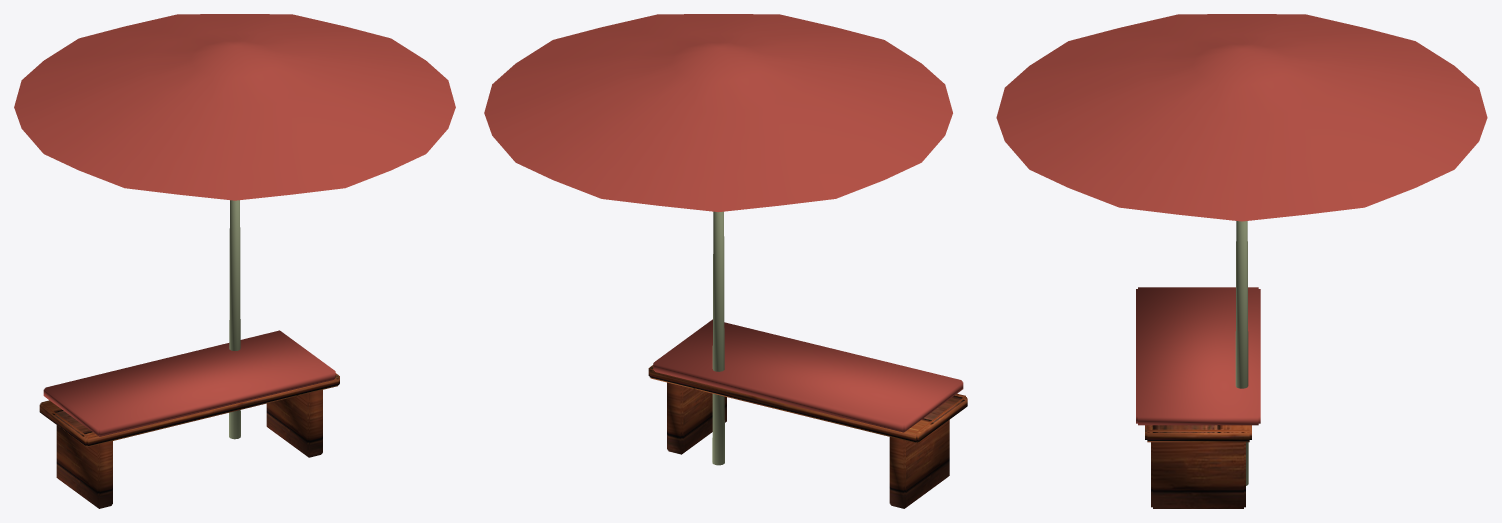
Rendered from edo_wagasa_bench.glb.
3 views of the same model, side by side, from view 1: azimuth 30°, elevation 25°; view 2: azimuth 150°, elevation 25°; view 3: azimuth 270°, elevation 25° (orthographic). The views are drawn at different scales.
Visible parts, largest first — view 1: wagasa_cloth, wagasa_charred, wagasa_cedar, wagasa_pole; view 2: wagasa_cloth, wagasa_charred, wagasa_cedar, wagasa_pole; view 3: wagasa_cloth, wagasa_charred, wagasa_pole, wagasa_cedar.
Part boxes in pixels (bbox=[...]): wagasa_cloth: bbox=[14, 14, 455, 436]; wagasa_charred: bbox=[56, 390, 322, 508]; wagasa_cedar: bbox=[39, 373, 339, 447]; wagasa_pole: bbox=[229, 200, 240, 439]; wagasa_cloth: bbox=[484, 14, 963, 432]; wagasa_charred: bbox=[667, 382, 949, 508]; wagasa_cedar: bbox=[648, 365, 967, 443]; wagasa_pole: bbox=[712, 211, 724, 465]; wagasa_cloth: bbox=[996, 14, 1487, 425]; wagasa_charred: bbox=[1151, 442, 1245, 508]; wagasa_pole: bbox=[1235, 221, 1248, 485]; wagasa_cedar: bbox=[1145, 425, 1251, 442].
Size of the model in its own units: 2.48 by 2.42 by 2.48.
4 materials, 2 textured.
